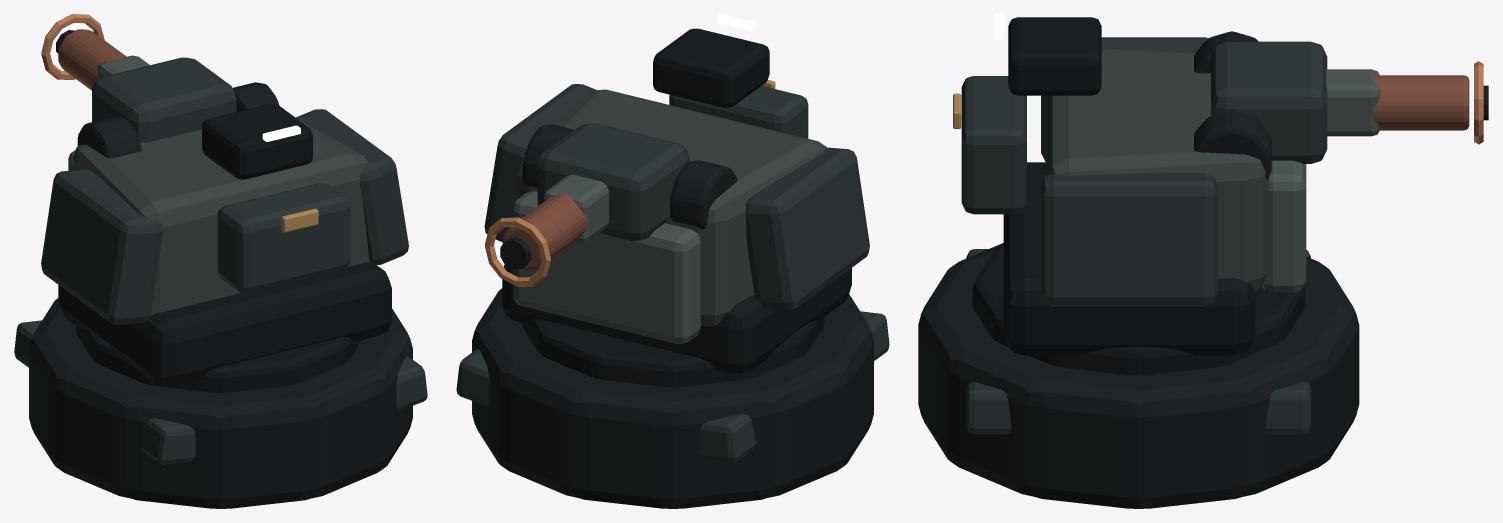
The model's file is enemy_turret.glb.
The picture shows the model from 3 angles, left to right: view 1: azimuth 30°, elevation 25°; view 2: azimuth 150°, elevation 25°; view 3: azimuth 270°, elevation 25°; orthographic projection. The views are drawn at different scales.
Visible parts, largest first — view 1: Turret_base_drum, Turret_angular_housing, Turret_lower_skirt, Turret_left_side_plate, Turret_rear_counterweight, Turret_cannon_cradle, Turret_base_bearing, Turret_top_service_plate, Turret_right_side_plate, Turret_forward_barrel, Turret_stabilizer_2, Turret_left_cradle_hinge (+6 smaller); view 2: Turret_base_drum, Turret_angular_housing, Turret_front_armor, Turret_left_side_plate, Turret_cannon_cradle, Turret_base_bearing, Turret_lower_skirt, Turret_top_service_plate, Turret_right_side_plate, Turret_rear_counterweight, Turret_forward_barrel, Turret_left_cradle_hinge (+7 smaller); view 3: Turret_base_drum, Turret_angular_housing, Turret_right_side_plate, Turret_lower_skirt, Turret_cannon_cradle, Turret_rear_counterweight, Turret_base_bearing, Turret_top_service_plate, Turret_forward_barrel, Turret_front_armor, Turret_barrel_heat_guard, Turret_right_cradle_hinge (+5 smaller).
Part boxes in pixels (x1,y1,x2,y2): Turret_base_drum: (29, 298, 412, 508); Turret_angular_housing: (73, 119, 369, 315); Turret_lower_skirt: (58, 262, 391, 385); Turret_left_side_plate: (41, 169, 163, 324); Turret_rear_counterweight: (217, 183, 350, 292); Turret_cannon_cradle: (92, 57, 236, 142); Turret_base_bearing: (76, 326, 361, 392); Turret_top_service_plate: (202, 103, 312, 179); Turret_right_side_plate: (295, 109, 408, 264); Turret_forward_barrel: (58, 29, 126, 90); Turret_stabilizer_2: (141, 418, 195, 464); Turret_left_cradle_hinge: (77, 116, 141, 158); Turret_base_drum: (472, 288, 873, 508); Turret_angular_housing: (518, 89, 827, 325); Turret_front_armor: (513, 191, 701, 343); Turret_left_side_plate: (745, 147, 869, 309); Turret_cannon_cradle: (537, 123, 689, 240); Turret_base_bearing: (521, 317, 824, 387); Turret_lower_skirt: (502, 264, 851, 373); Turret_top_service_plate: (653, 28, 769, 107); Turret_right_side_plate: (484, 84, 596, 241); Turret_rear_counterweight: (669, 86, 808, 138); Turret_forward_barrel: (502, 193, 587, 270); Turret_left_cradle_hinge: (670, 160, 737, 229); Turret_base_drum: (918, 243, 1359, 508); Turret_angular_housing: (1045, 48, 1269, 290); Turret_right_side_plate: (1041, 172, 1217, 305); Turret_lower_skirt: (1003, 162, 1255, 355); Turret_cannon_cradle: (1211, 41, 1327, 163); Turret_rear_counterweight: (961, 76, 1026, 214); Turret_base_bearing: (972, 244, 1304, 375); Turret_top_service_plate: (1008, 17, 1101, 95); Turret_forward_barrel: (1372, 75, 1469, 130); Turret_front_armor: (1262, 160, 1306, 292); Turret_barrel_heat_guard: (1326, 69, 1380, 136); Turret_right_cradle_hinge: (1194, 110, 1271, 179).
Size of the model in its own units: 0.9464 by 0.949 by 1.22.
